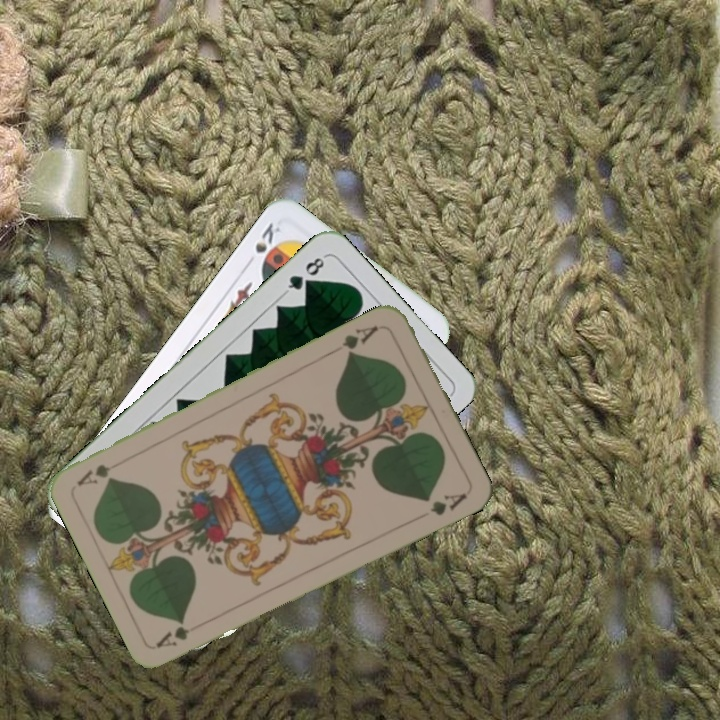G8: (281, 253, 328, 297)
GA: (338, 321, 381, 359), (152, 622, 192, 651)
SK: (241, 218, 284, 270)
